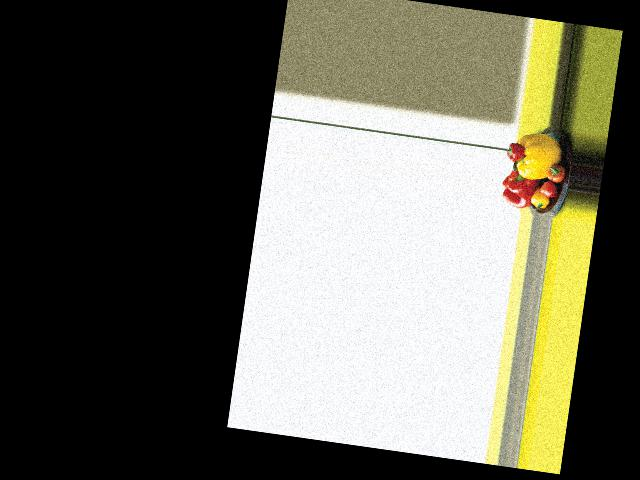bell_pepper: (529, 189, 550, 211)
